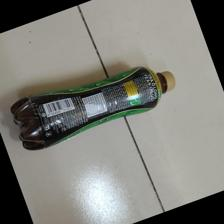Olong: (9, 65, 177, 153)
